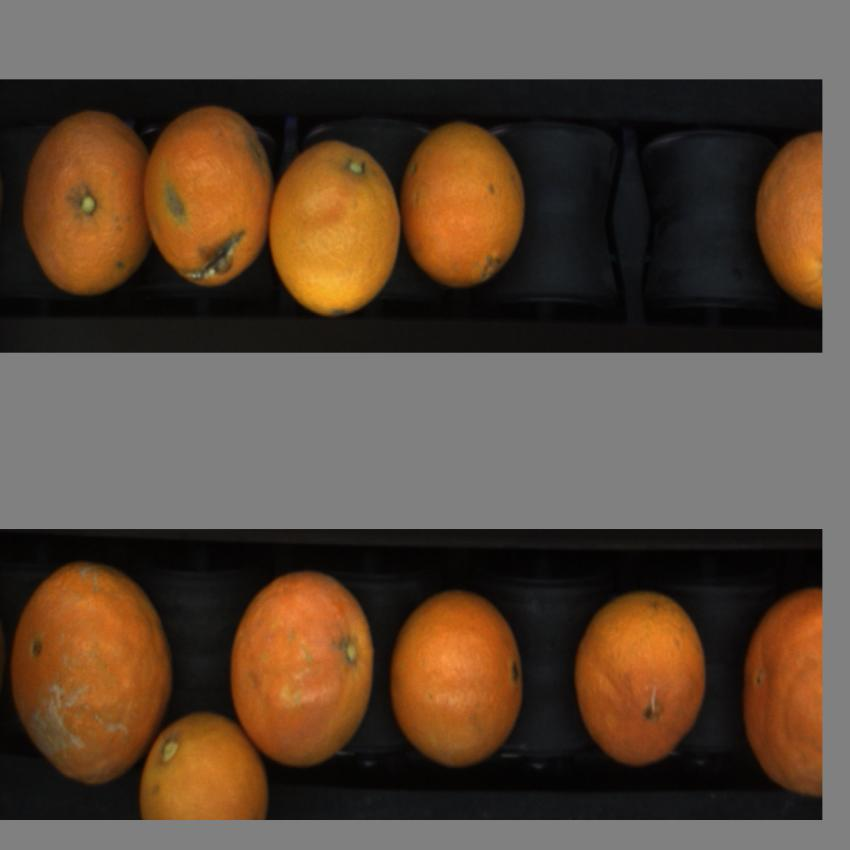Buen estado: (383, 582, 528, 770), (572, 581, 710, 772), (20, 112, 159, 299), (269, 126, 401, 322), (136, 702, 273, 816), (754, 123, 821, 318)
Mal estado: (10, 569, 177, 788), (223, 566, 379, 772), (143, 105, 272, 297), (400, 118, 532, 288), (740, 581, 822, 800)
